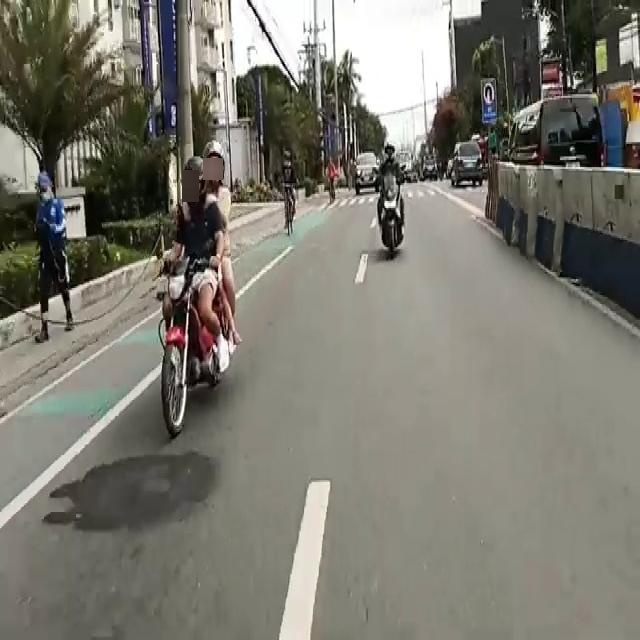car: (509, 97, 601, 187), (456, 142, 484, 190), (352, 152, 382, 191)
motorcycle: (156, 153, 248, 396), (374, 147, 422, 257)
